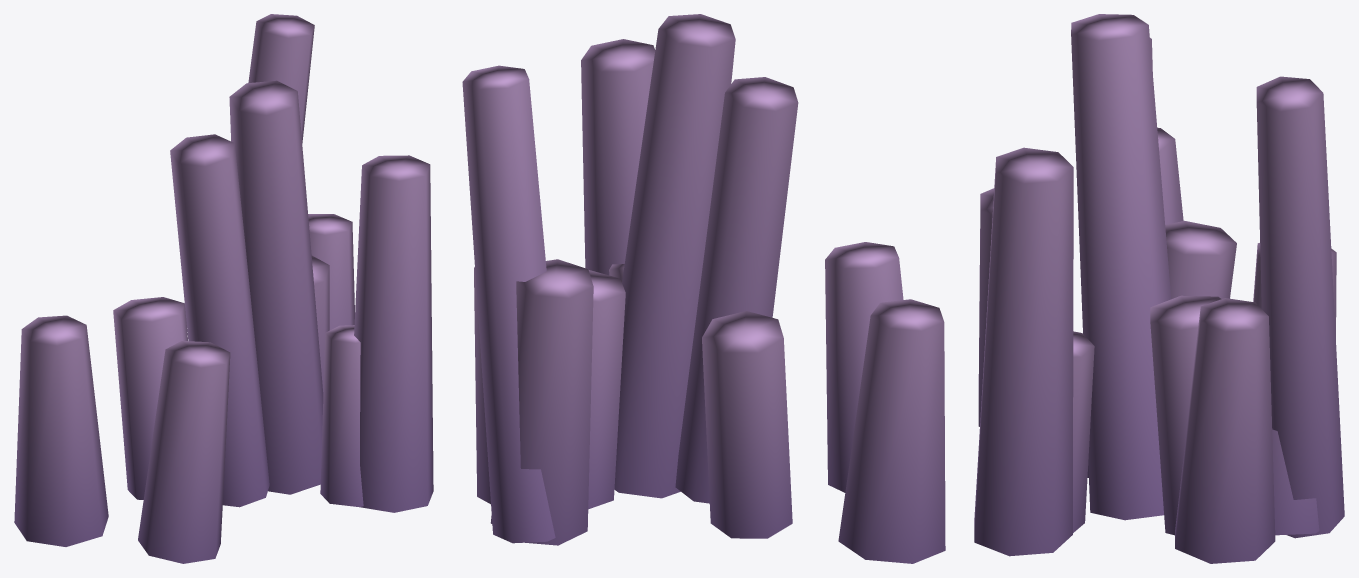
The model's file is coral_c_lod0.glb.
3 views of the same model, side by side, from view 1: azimuth 30°, elevation 25°; view 2: azimuth 150°, elevation 25°; view 3: azimuth 270°, elevation 25° (orthographic). The views are drawn at different scales.
Parts seen in each view (by area): view 1: coral_c_lod0; view 2: coral_c_lod0; view 3: coral_c_lod0.
Boxes of the visible parts, x1,y1,x2,y2 form: coral_c_lod0: (14,14,433,563); coral_c_lod0: (462,14,945,563); coral_c_lod0: (974,14,1344,563).
Bounding box in the file's own units: 1.12 × 1.16 × 0.8407.
